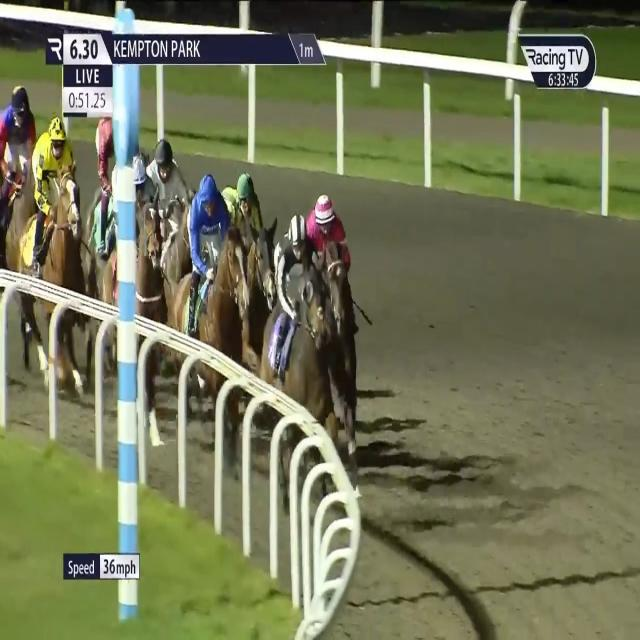horses-racing: (304, 190, 369, 456), (37, 117, 94, 329), (278, 218, 329, 447), (189, 180, 240, 362), (122, 154, 164, 366), (224, 168, 282, 318), (0, 80, 36, 311), (91, 103, 133, 296), (145, 141, 198, 246)
